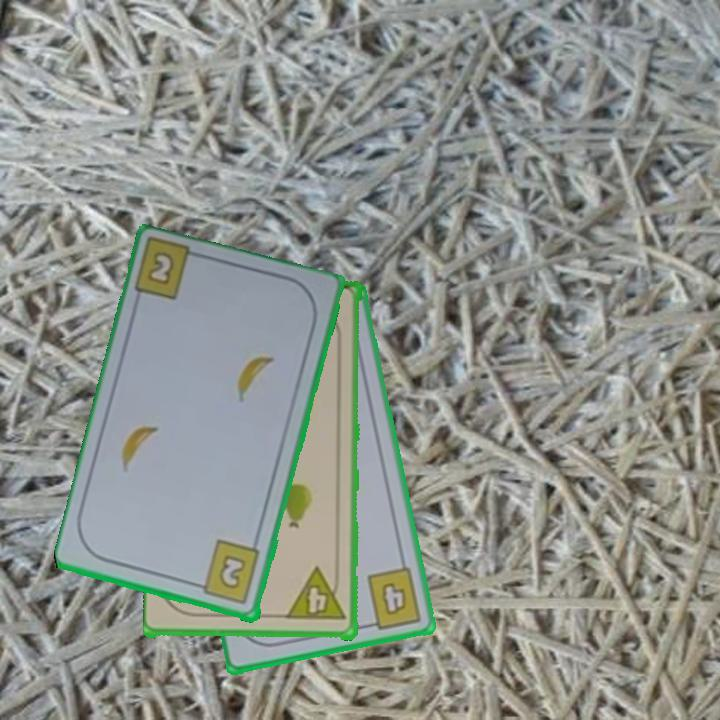2b: (191, 537, 264, 608), (144, 248, 178, 289)
4b: (361, 563, 425, 632)
4p: (284, 566, 349, 624)
